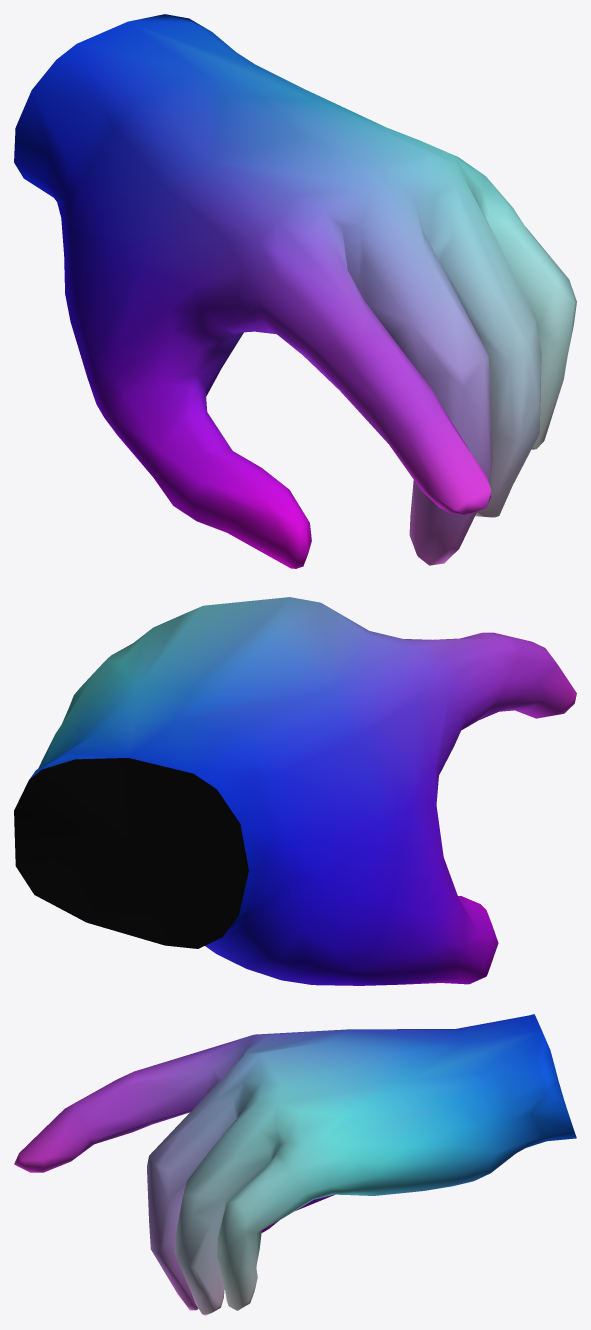
Rendered from lefthand.fbx.
3 renders of one model, top to bottom at view 1: azimuth 30°, elevation 25°; view 2: azimuth 150°, elevation 25°; view 3: azimuth 270°, elevation 25°, orthographic. The views are drawn at different scales.
Parts seen in each view (by area): view 1: hands:Lhand; view 2: hands:Lhand; view 3: hands:Lhand.
Boxes of the visible parts, bbox=[...] form: hands:Lhand: bbox=[14, 14, 576, 568]; hands:Lhand: bbox=[14, 597, 576, 985]; hands:Lhand: bbox=[14, 1014, 576, 1315].
Size of the model in its own units: 4.32 by 3.88 by 7.64.
